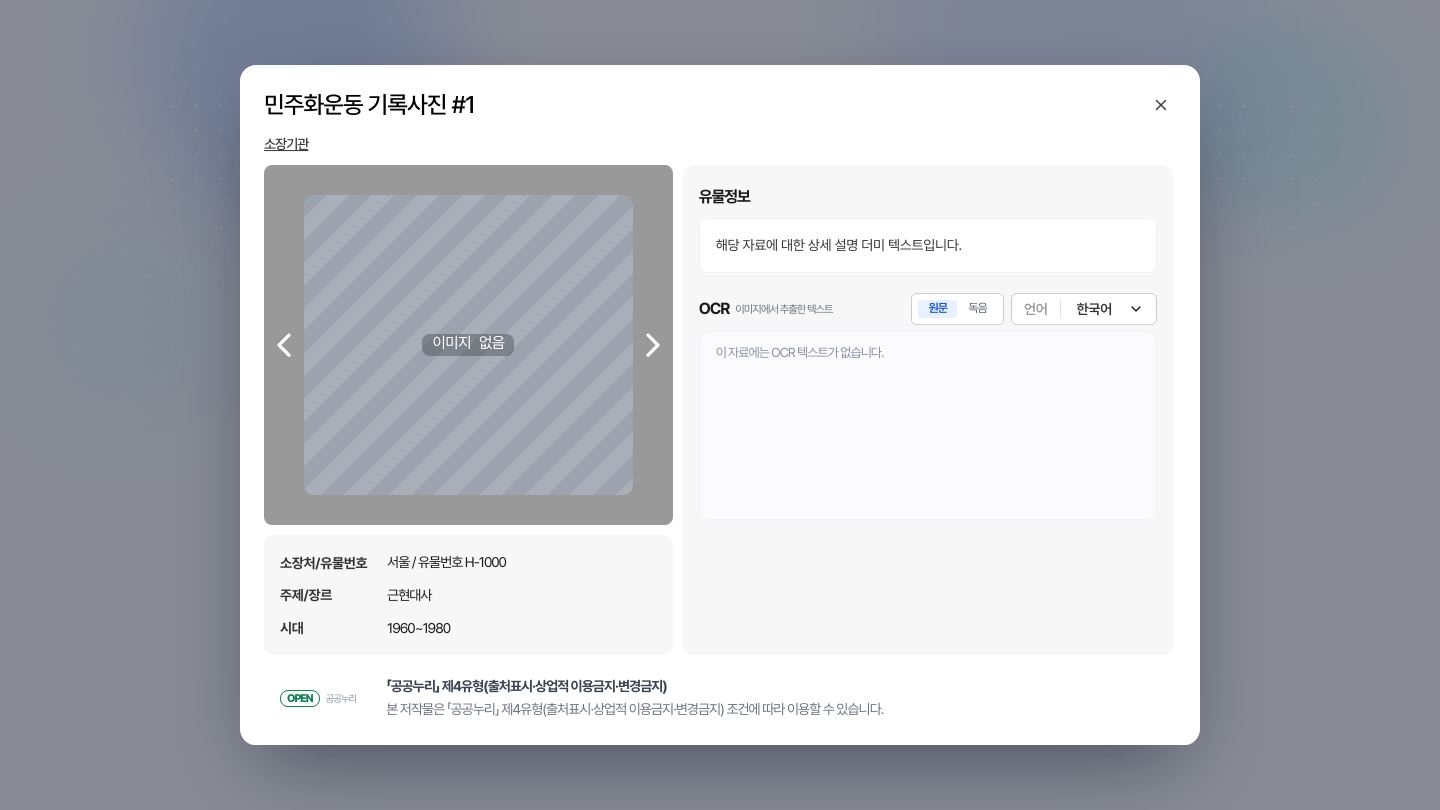
푸터 다음 버튼 클릭 시 "준비 중입니다" Toast가 노출된다
Click the button "다음" at (653, 345), box [633, 325, 673, 365]
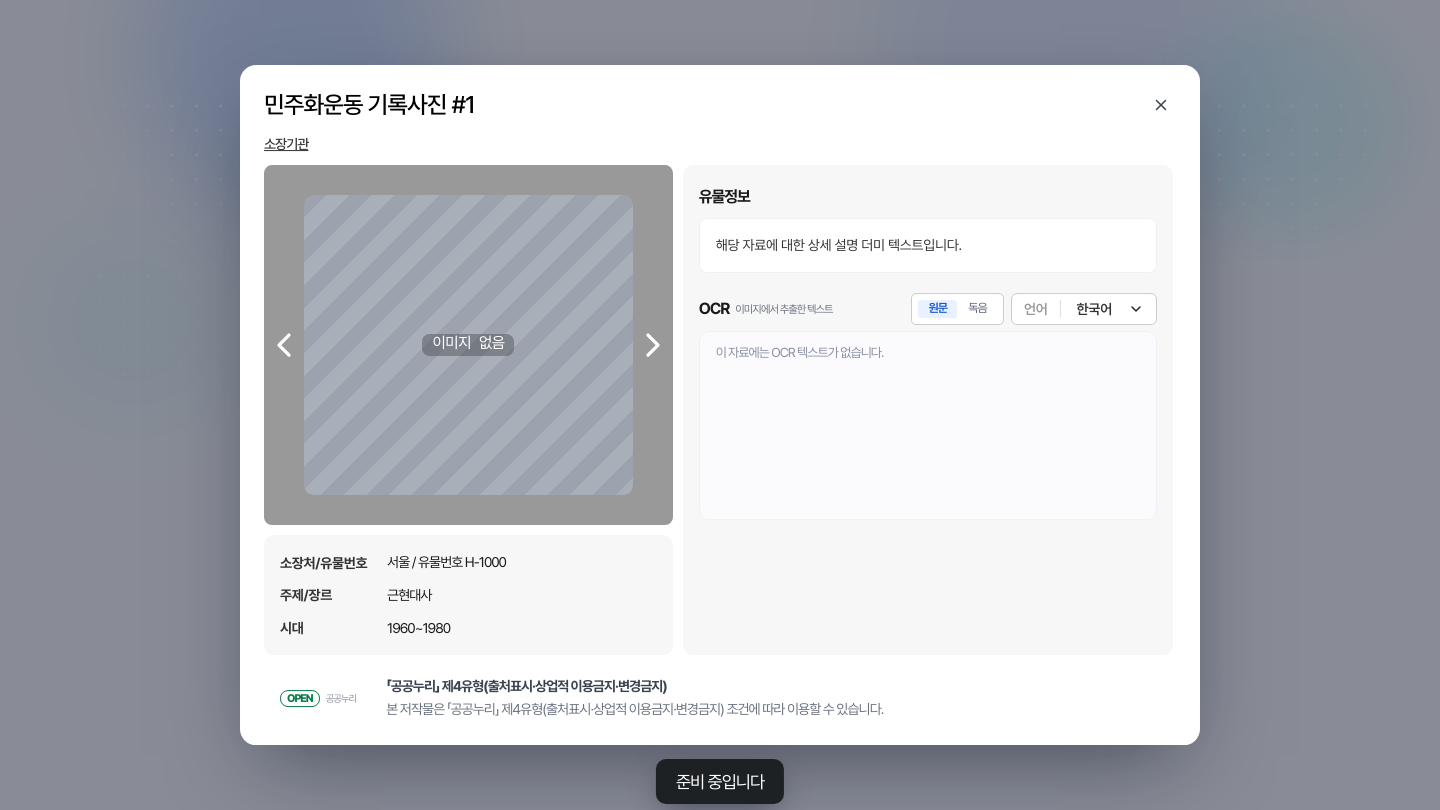
Now the message reads "준비 중입니다", box [676, 771, 764, 792]
